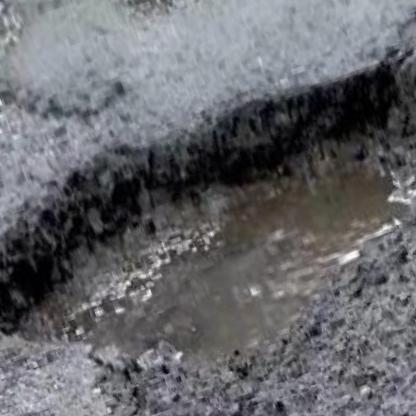pothole: (0, 18, 416, 416), (103, 0, 203, 27)
